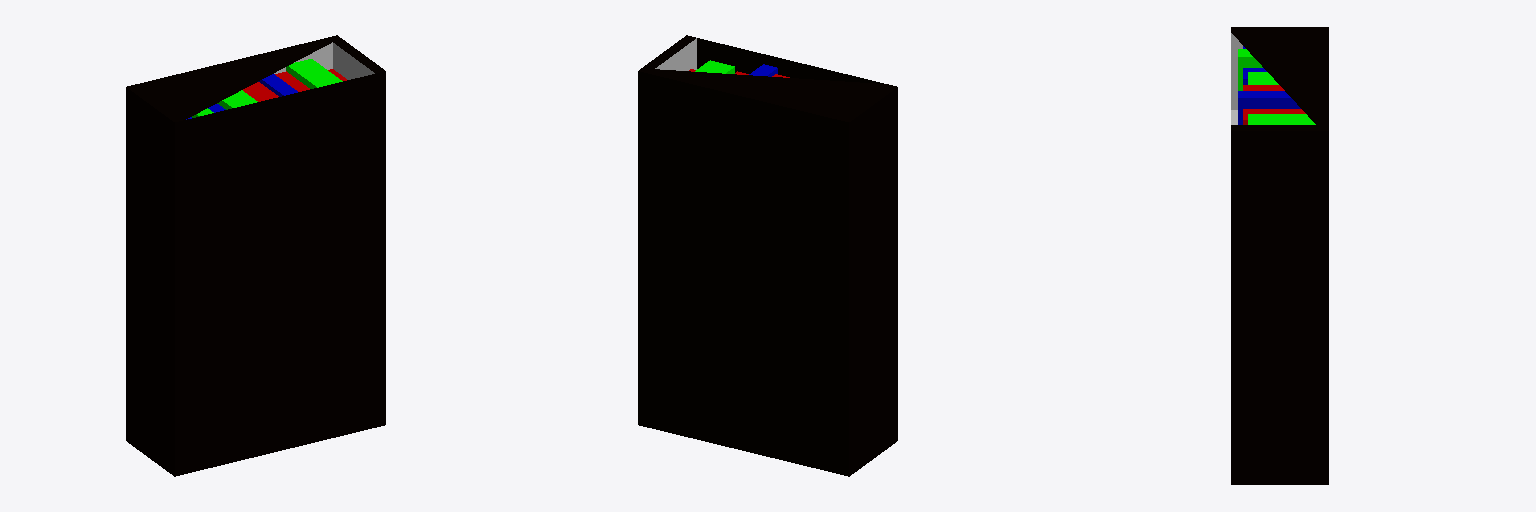
The model's file is BookShelf.obj.
3 renders of one model, left to right at view 1: azimuth 30°, elevation 25°; view 2: azimuth 150°, elevation 25°; view 3: azimuth 270°, elevation 25°, orthographic.
Visible parts, largest first — view 1: Cube.020, Cube.019, Cube, Cube.039, Cube.025; view 2: Cube.020, Cube.019, Cube, Cube.039; view 3: Cube.020, Cube, Cube.039, Cube.019, Cube.027, Cube.025.
Boxes of the visible parts, x1=… form: Cube.020: x1=126, y1=35, x2=385, y2=210; Cube.019: x1=126, y1=248, x2=385, y2=387; Cube: x1=126, y1=337, x2=385, y2=476; Cube.039: x1=126, y1=160, x2=385, y2=299; Cube.025: x1=286, y1=59, x2=342, y2=88; Cube.020: x1=638, y1=35, x2=897, y2=210; Cube.019: x1=638, y1=248, x2=897, y2=387; Cube: x1=638, y1=337, x2=897, y2=476; Cube.039: x1=638, y1=160, x2=897, y2=299; Cube.020: x1=1231, y1=27, x2=1328, y2=218; Cube: x1=1231, y1=396, x2=1328, y2=484; Cube.039: x1=1231, y1=219, x2=1328, y2=307; Cube.019: x1=1231, y1=308, x2=1328, y2=395; Cube.027: x1=1238, y1=91, x2=1300, y2=124; Cube.025: x1=1248, y1=114, x2=1315, y2=124.
Bounding box in the file's own units: 1 × 1.6 × 0.4.